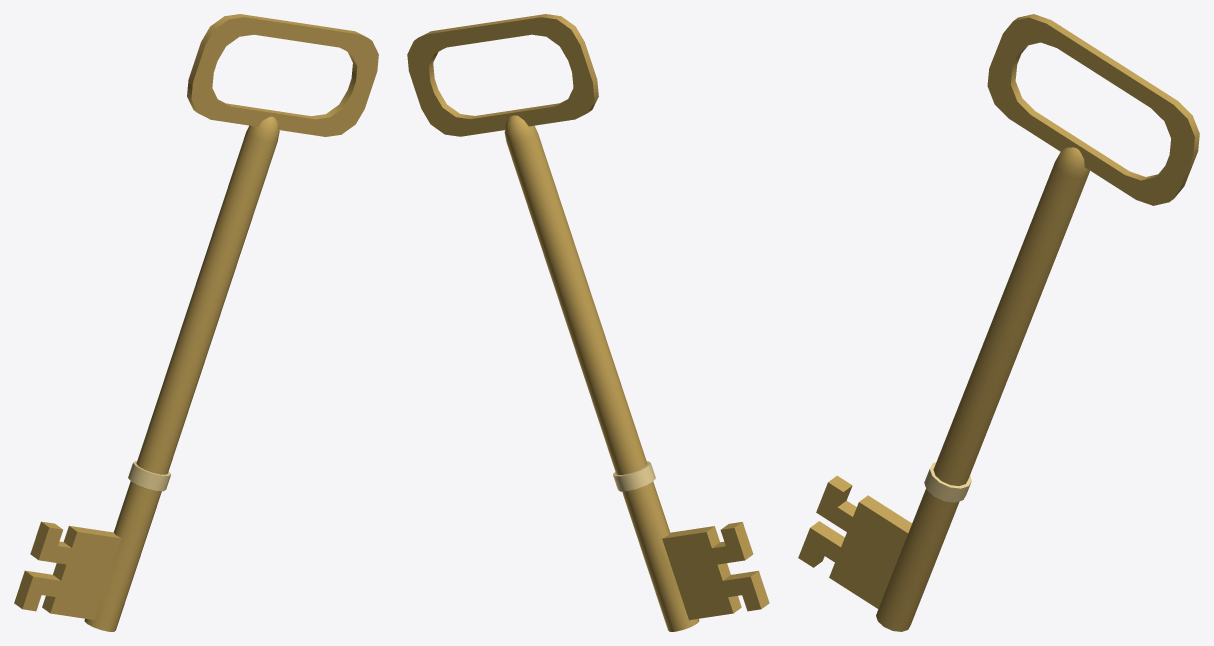
File: golden_key.glb
3 renders of one model, left to right at view 1: azimuth 30°, elevation 25°; view 2: azimuth 150°, elevation 25°; view 3: azimuth 330°, elevation 25°, orthographic. The views are drawn at different scales.
Parts seen in each view (by area): view 1: Key12.001_1; view 2: Key12.001_1; view 3: Key12.001_1.
Part boxes in pixels (x1,y1,x2,y2): Key12.001_1: [14, 14, 378, 631]; Key12.001_1: [407, 14, 769, 631]; Key12.001_1: [798, 14, 1199, 631].
Size of the model in its own units: 0.8605 by 1.34 by 0.0838.
1 material, 1 textured.
